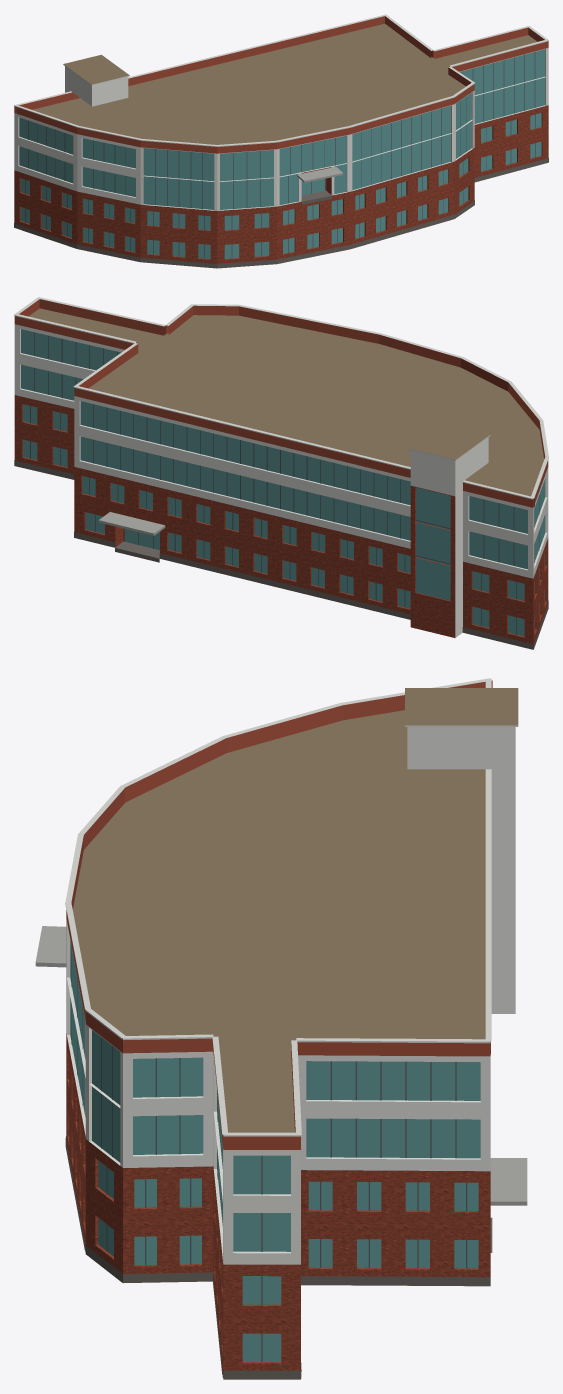
The picture shows the model from 3 angles, top to bottom: view 1: azimuth 30°, elevation 25°; view 2: azimuth 150°, elevation 25°; view 3: azimuth 270°, elevation 25°; orthographic projection. The views are drawn at different scales.
Visible parts, largest first — view 1: infoP__glass, infoP__roof, infoP__wall, infoP__wall2, infoP__parapet, infoP__frame, infoP__base, infoP__trim, infoP__canopy; view 2: infoP__roof, infoP__glass, infoP__wall, infoP__wall2, infoP__parapet, infoP__trim, infoP__base, infoP__frame, infoP__canopy; view 3: infoP__roof, infoP__glass, infoP__wall, infoP__wall2, infoP__parapet, infoP__trim, infoP__base, infoP__canopy, infoP__frame.
Boxes of the visible parts, x1,y1,x2,y2 form: infoP__glass: [19, 49, 545, 258]; infoP__roof: [32, 23, 537, 144]; infoP__wall: [14, 105, 548, 267]; infoP__wall2: [14, 48, 548, 210]; infoP__parapet: [14, 16, 548, 153]; infoP__frame: [25, 52, 535, 258]; infoP__base: [14, 158, 548, 268]; infoP__trim: [14, 14, 548, 146]; infoP__canopy: [297, 167, 343, 182]; infoP__roof: [29, 308, 544, 649]; infoP__glass: [21, 329, 545, 636]; infoP__wall: [14, 395, 548, 649]; infoP__wall2: [14, 324, 548, 637]; infoP__parapet: [14, 299, 548, 507]; infoP__trim: [14, 297, 548, 499]; infoP__base: [14, 460, 548, 649]; infoP__frame: [30, 332, 539, 634]; infoP__canopy: [98, 512, 165, 535]; infoP__roof: [73, 688, 518, 1286]; infoP__glass: [70, 941, 480, 1361]; infoP__wall: [66, 1033, 490, 1377]; infoP__wall2: [66, 727, 515, 1264]; infoP__parapet: [66, 680, 492, 1149]; infoP__trim: [65, 678, 518, 1136]; infoP__base: [65, 1136, 492, 1379]; infoP__canopy: [35, 926, 527, 1205]; infoP__frame: [71, 946, 467, 1362].
Bounding box in the file's own units: 64.91 × 19.6 × 29.52.
Materials: 10 (1 with a texture image).
